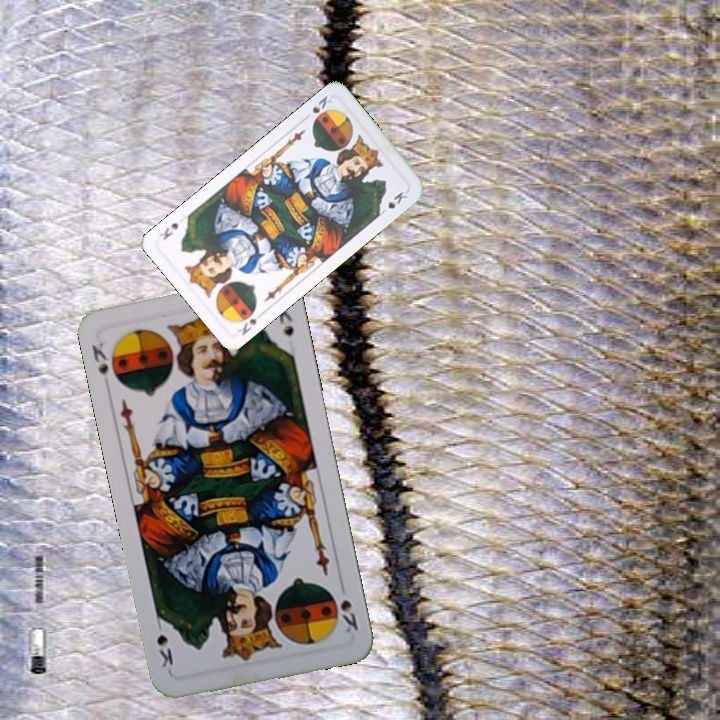SK: (87, 338, 122, 386), (336, 595, 361, 636), (307, 91, 334, 126), (231, 314, 260, 338)
